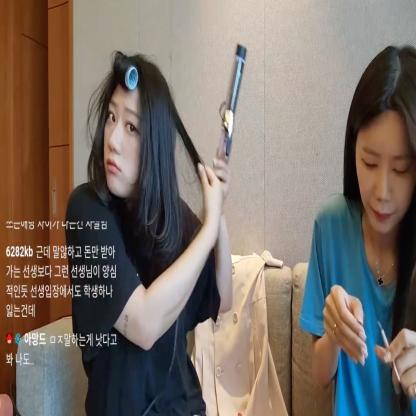streamer: (64, 43, 248, 416), (298, 42, 416, 416)
